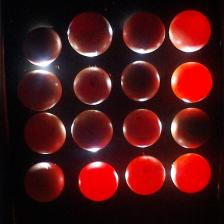fertile: (66, 11, 113, 58), (121, 11, 166, 56), (23, 112, 67, 155), (70, 110, 114, 153), (18, 70, 62, 111), (170, 107, 211, 150), (120, 60, 160, 102), (24, 162, 64, 203), (122, 108, 162, 148), (22, 27, 61, 68), (73, 67, 112, 106)
infertile: (170, 62, 214, 104), (169, 10, 211, 53), (125, 155, 166, 196), (170, 153, 212, 193), (78, 160, 118, 202)
